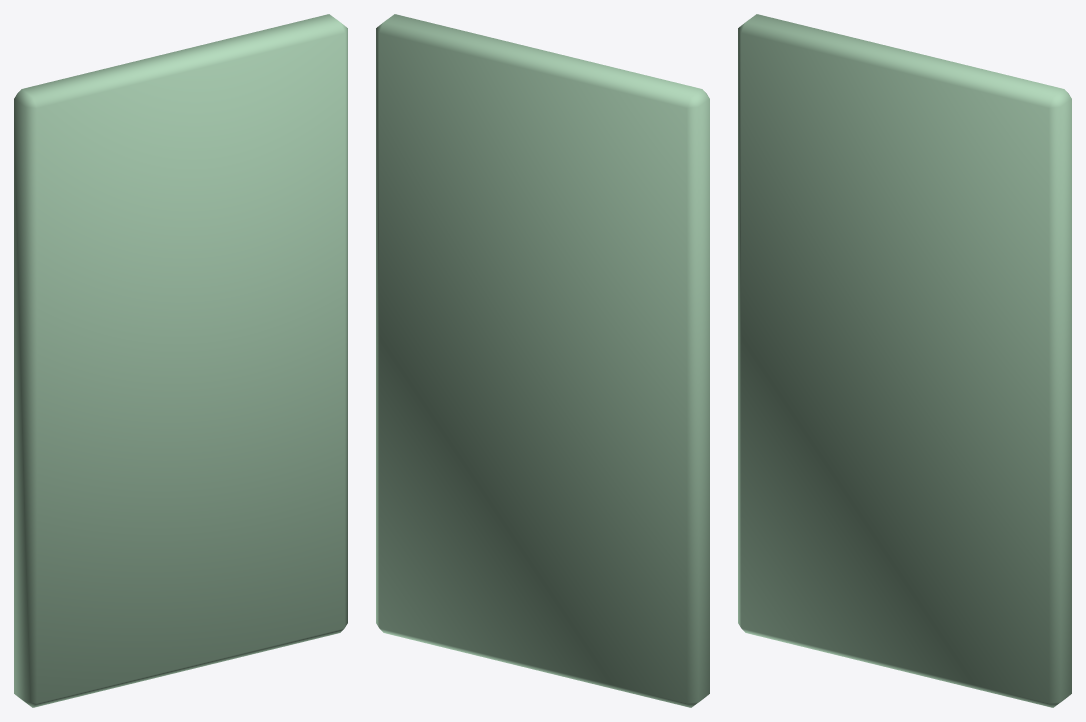
The model's file is door.fbx.
The picture shows the model from 3 angles, left to right: view 1: azimuth 30°, elevation 25°; view 2: azimuth 150°, elevation 25°; view 3: azimuth 330°, elevation 25°; orthographic projection.
Parts seen in each view (by area): view 1: door_low; view 2: door_low; view 3: door_low.
Part boxes in pixels (x1,y1,x2,y2): door_low: (14, 14, 347, 707); door_low: (376, 14, 709, 707); door_low: (738, 14, 1071, 707).
Bounding box in the file's own units: 68.78 × 7.33 × 124.
